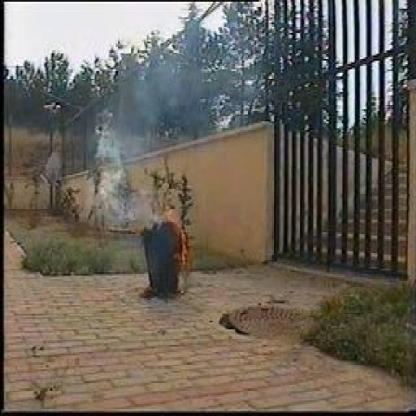-: (95, 115, 159, 220)
foggia-v2-map80-epoch100 - v1 4323: (176, 218, 188, 270)
